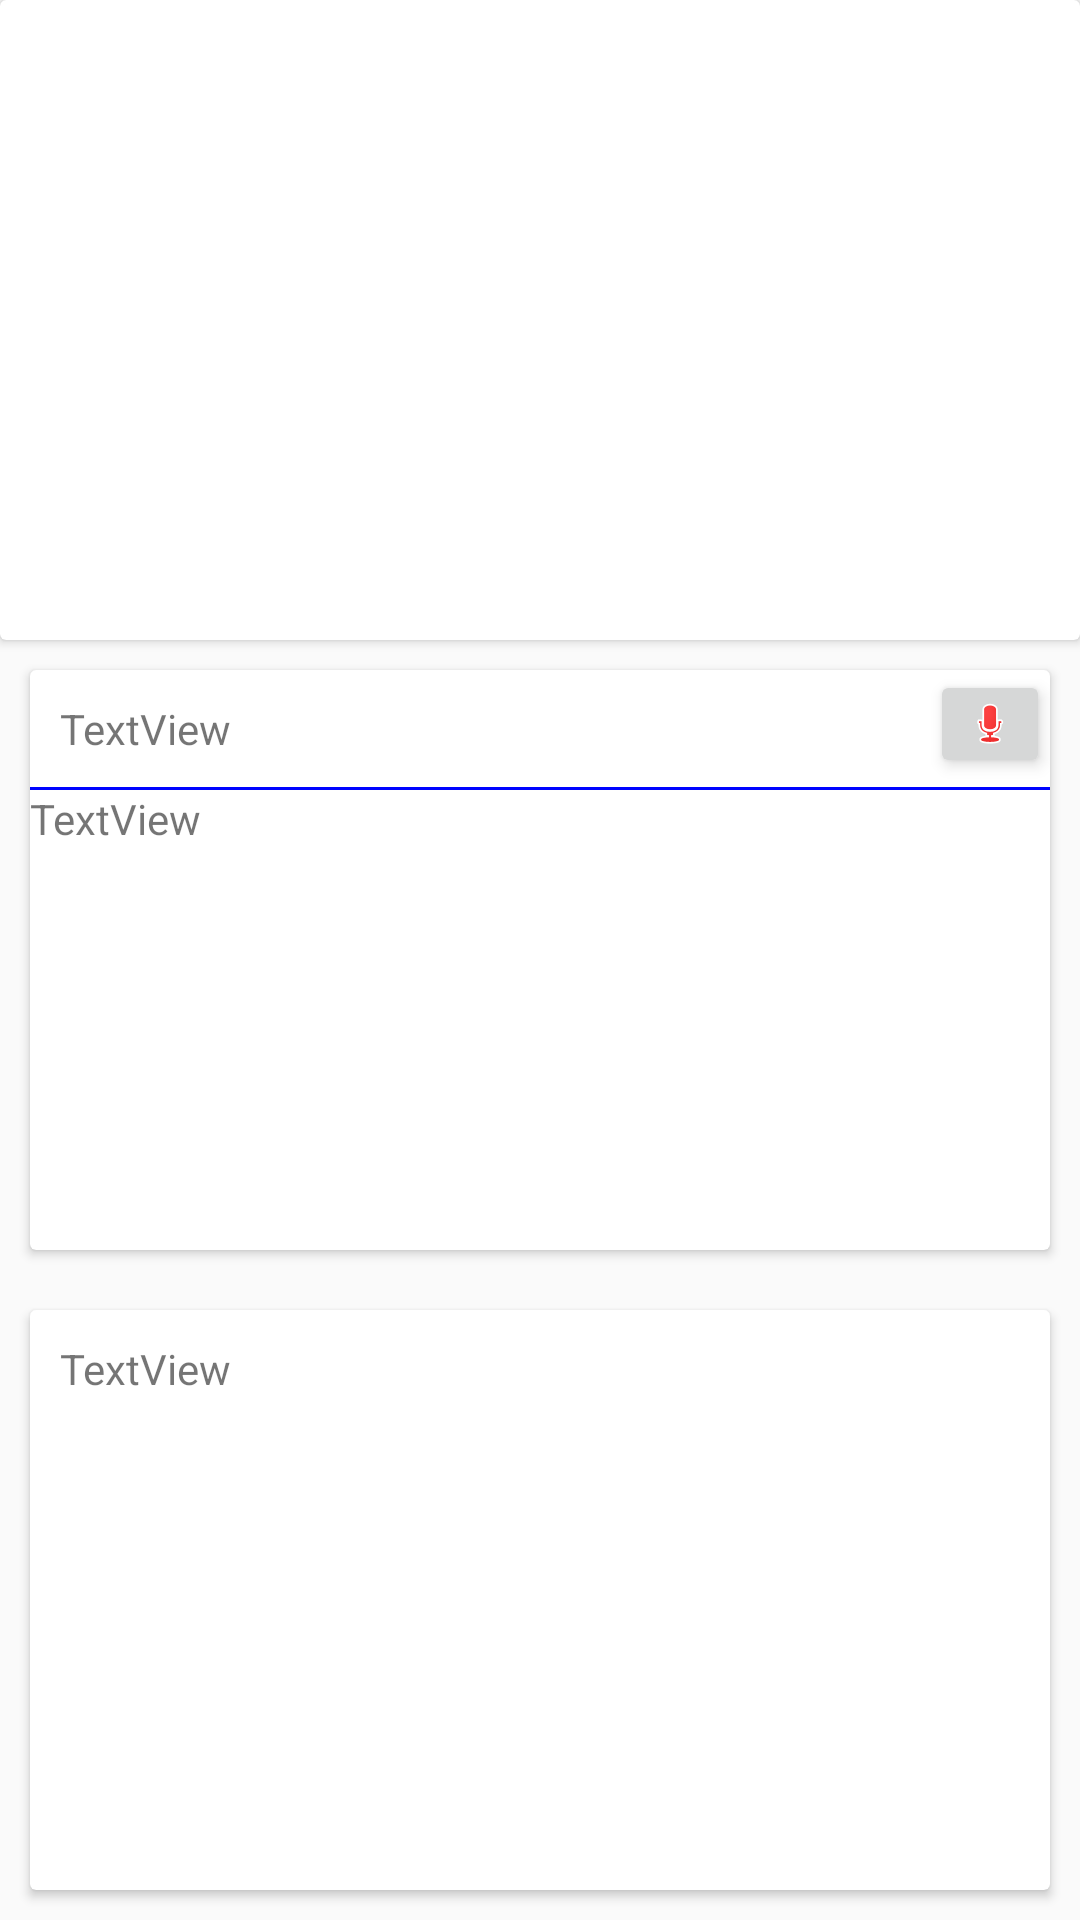

Icon bounding boxes for this 1080x1920 phone screenshot, format (x1, y1, x2, y2):
presence audio busy: (942, 688, 1040, 762)
